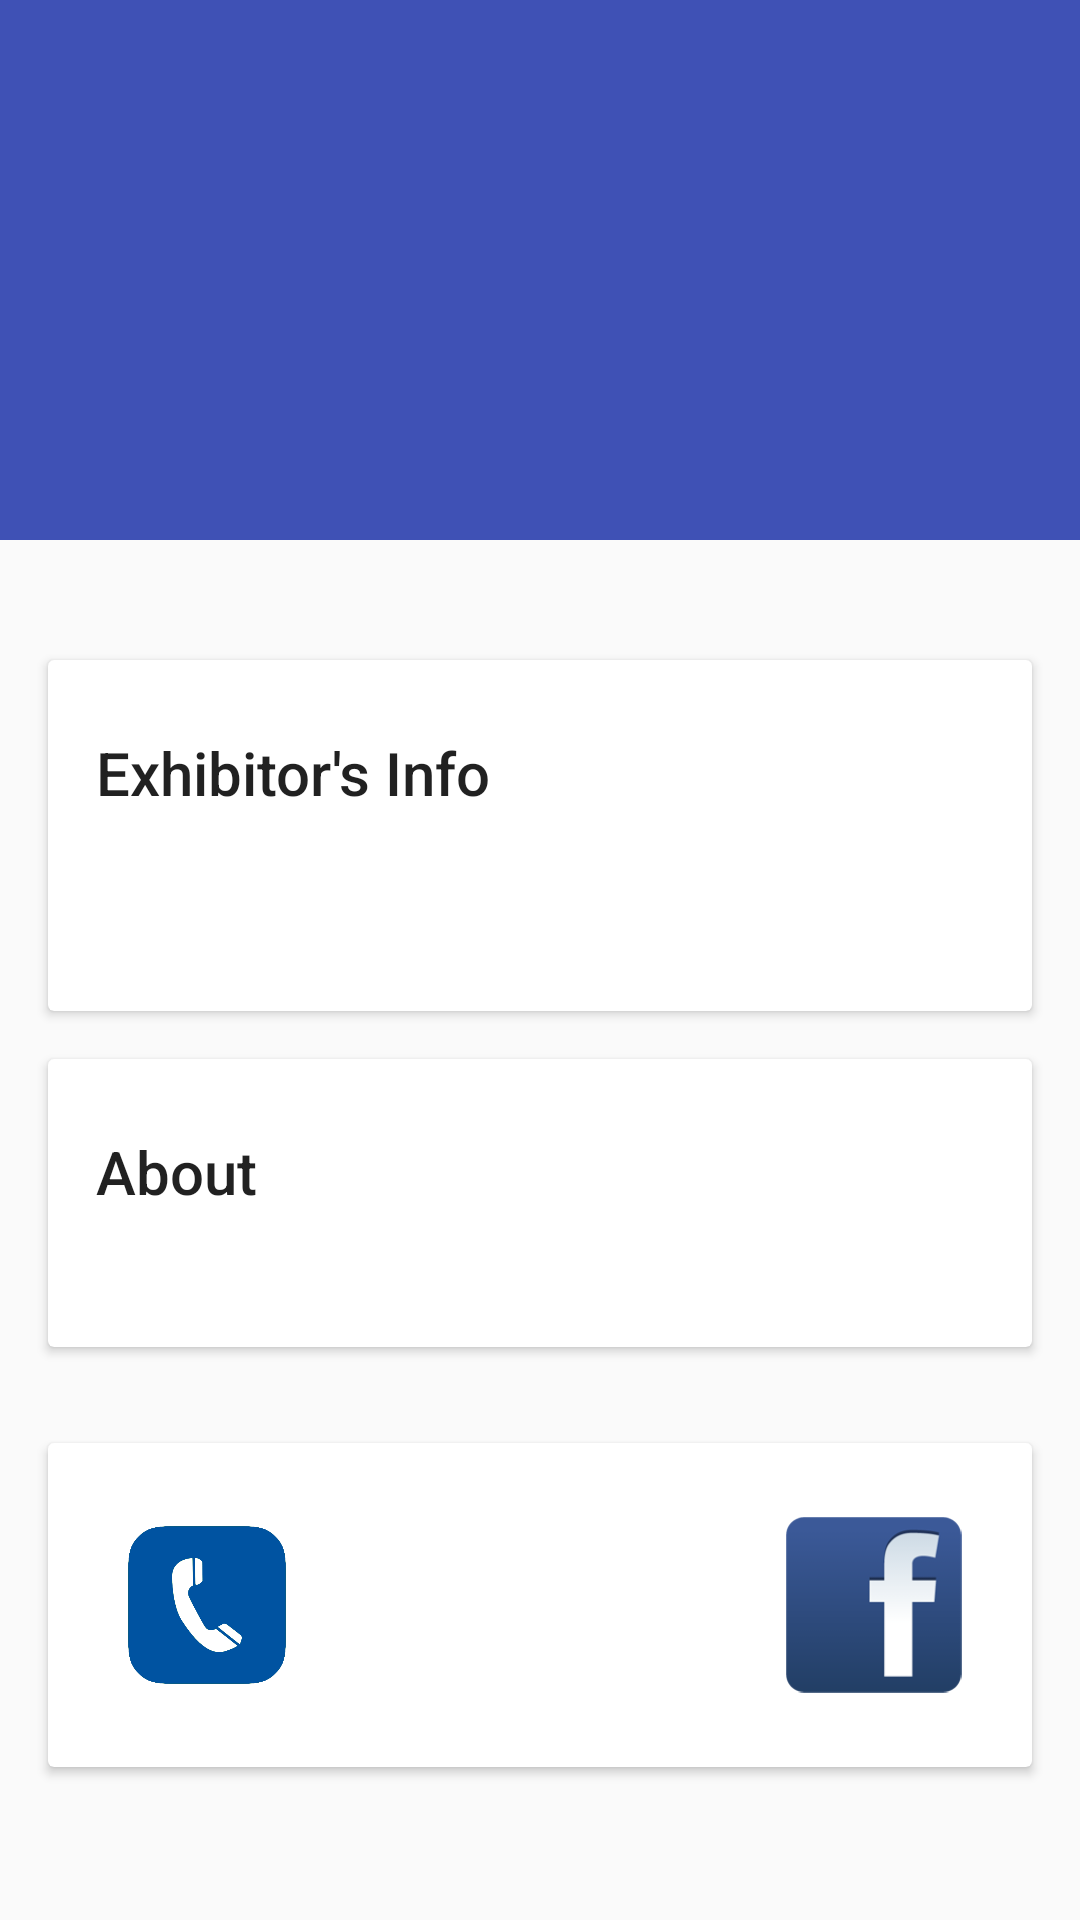

Named icons in this screenshot (1080px×1920px) and their bounding boxes, box=[x1, y1, x2, y2]:
phone: box=[128, 1526, 286, 1684]
